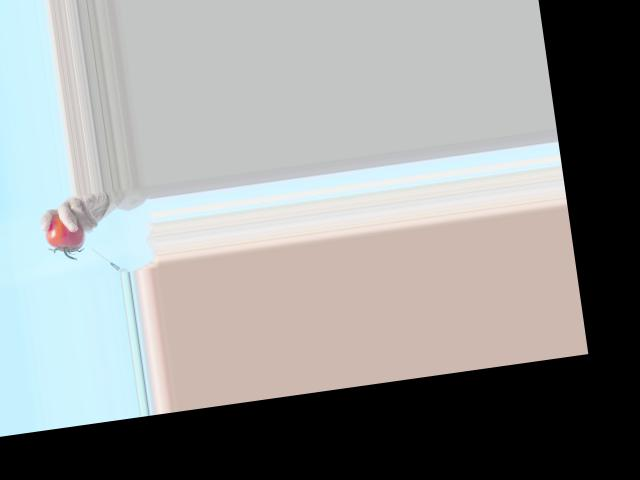tomato: (42, 211, 86, 254)
